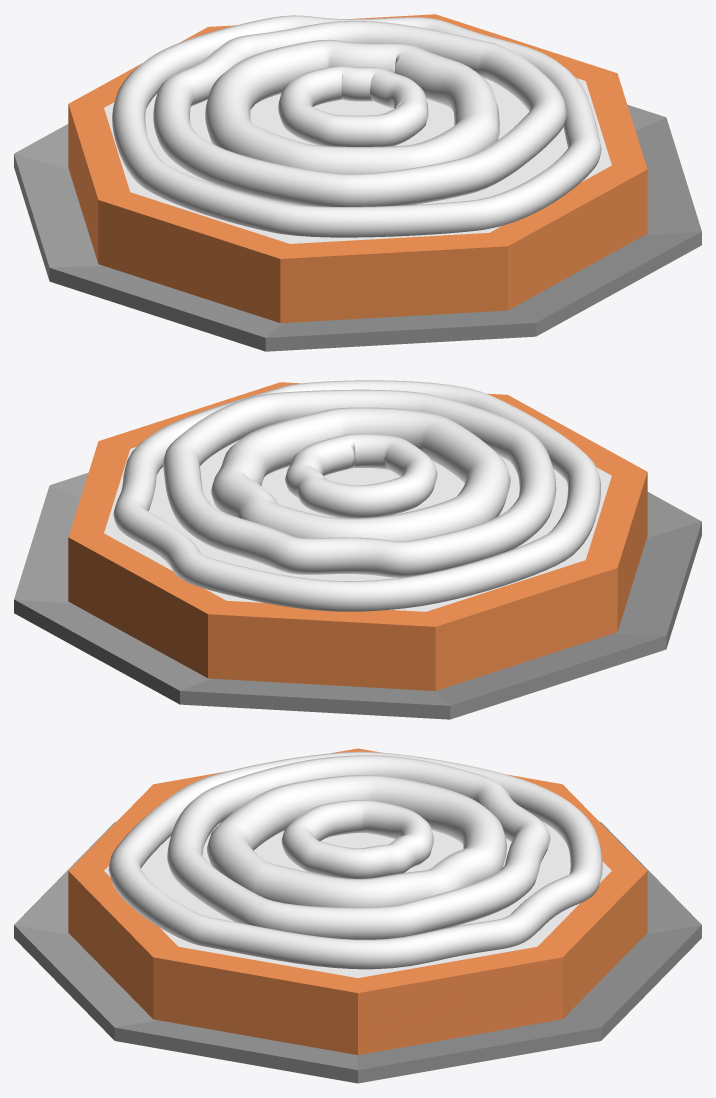
File: pie3.dae
The picture shows the model from 3 angles, top to bottom: view 1: azimuth 30°, elevation 25°; view 2: azimuth 150°, elevation 25°; view 3: azimuth 270°, elevation 25°; orthographic projection. The views are drawn at different scales.
Parts seen in each view (by area): view 1: 円柱, 円, ベジエカーブ.001, ベジエカーブ, ベジエカーブ.002, 円柱.001, ベジエカーブ.003; view 2: 円柱, 円, ベジエカーブ.001, ベジエカーブ, ベジエカーブ.002, 円柱.001, ベジエカーブ.003; view 3: 円柱, 円, ベジエカーブ, ベジエカーブ.001, ベジエカーブ.002, 円柱.001, ベジエカーブ.003.
Part boxes in pixels (<box>): 円柱: <box>68,14,647,323</box>; 円: <box>14,104,701,351</box>; ベジエカーブ.001: <box>153,21,566,206</box>; ベジエカーブ: <box>112,15,601,237</box>; ベジエカーブ.002: <box>205,39,499,173</box>; 円柱.001: <box>104,78,611,243</box>; ベジエカーブ.003: <box>278,66,428,146</box>; 円柱: <box>68,382,647,690</box>; 円: <box>14,472,701,719</box>; ベジエカーブ.001: <box>163,389,556,577</box>; ベジエカーブ: <box>113,380,601,611</box>; ベジエカーブ.002: <box>211,407,510,541</box>; 円柱.001: <box>104,440,611,611</box>; ベジエカーブ.003: <box>285,433,437,518</box>; 円柱: <box>68,748,647,1054</box>; 円: <box>14,822,701,1083</box>; ベジエカーブ: <box>108,751,602,969</box>; ベジエカーブ.001: <box>167,755,550,939</box>; ベジエカーブ.002: <box>207,775,506,907</box>; 円柱.001: <box>104,822,611,977</box>; ベジエカーブ.003: <box>281,800,433,878</box>.
Bounding box in the file's own units: 8.58 × 8.58 × 1.98.
